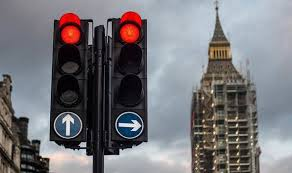red: (107, 10, 150, 111), (48, 14, 88, 109), (109, 16, 146, 108), (54, 22, 84, 108), (116, 21, 143, 106)
